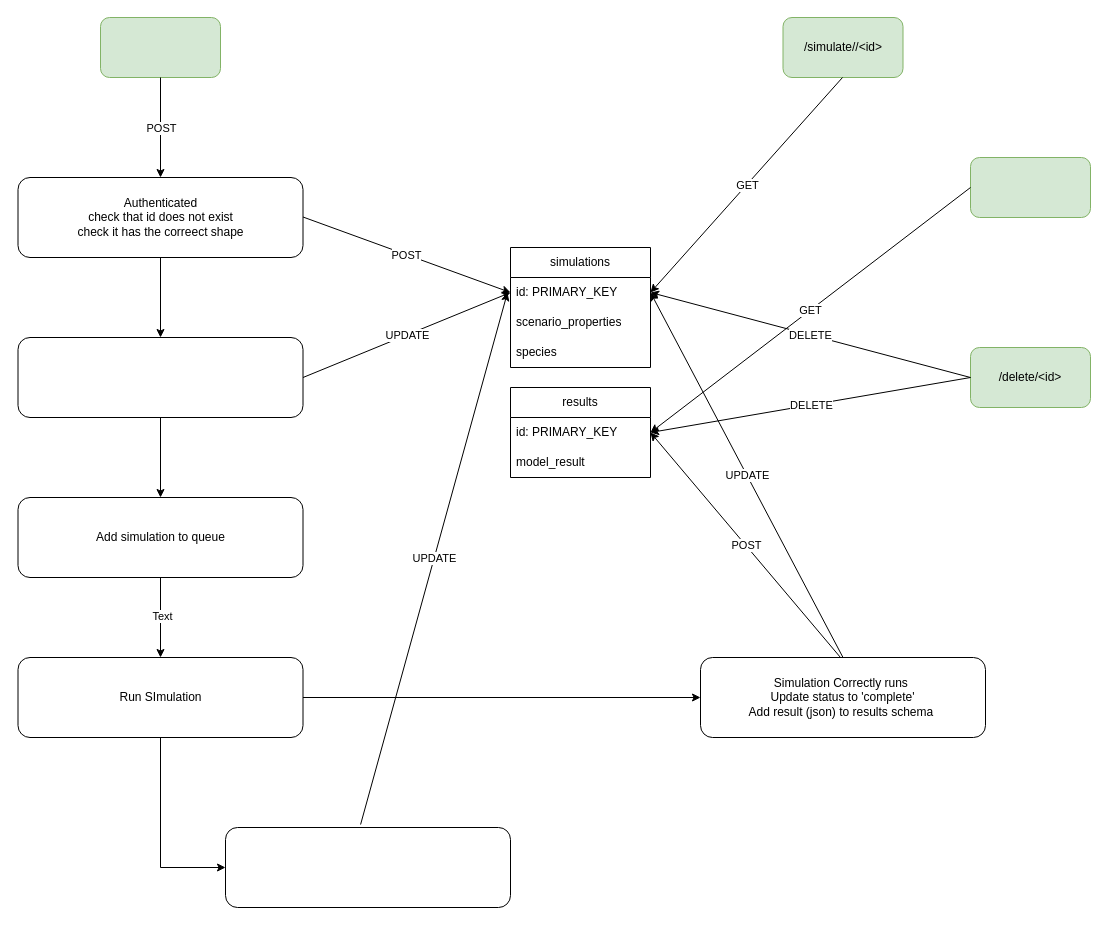
The diagram is 1108 pixels wide and 925 high, and some of its shapes have lost their labels. The centre of each missing label's shape, as x and y in pixels:
"/results/<id>" belongs at [1030,187].
"/simulate" belongs at [160,47].
"Simulation Failed Update status with 'failed'" belongs at [367,867].
"Update status to running" belongs at [160,377].
